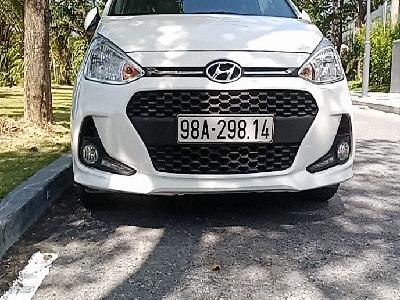lisence: (176, 112, 275, 146)
